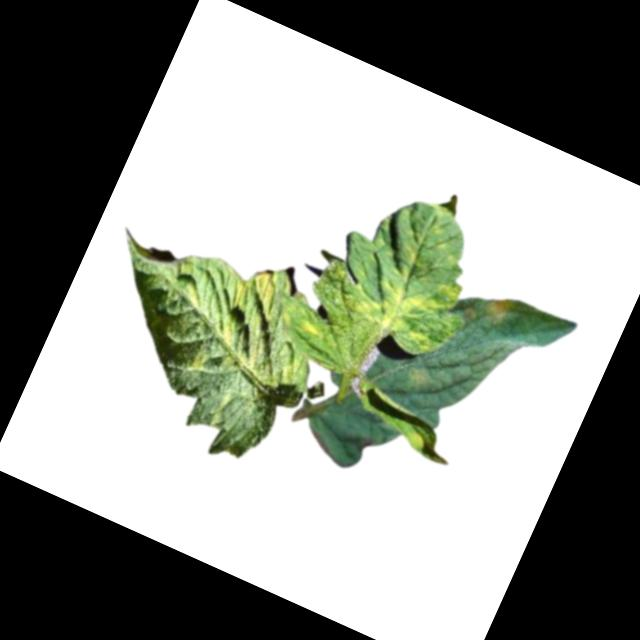Leaf_Mold: (338, 182, 501, 365), (206, 256, 305, 367), (479, 289, 515, 326), (293, 309, 331, 343), (404, 359, 436, 392), (186, 343, 214, 375)
